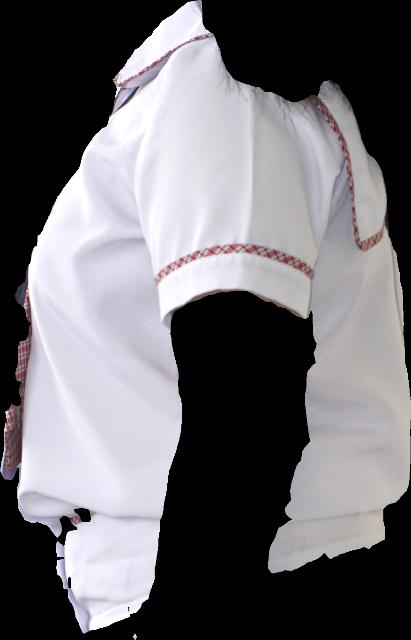pologirl: (1, 0, 410, 633)
